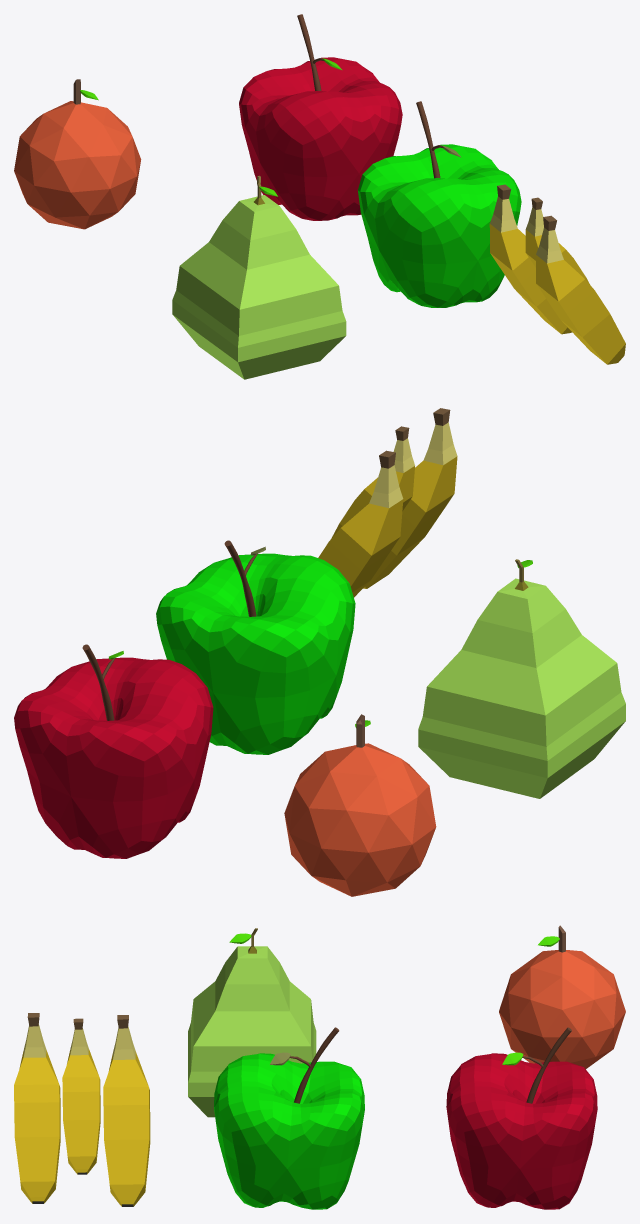
Rendered from LowpolyFruits.fbx.
3 views of the same model, one above another, from view 1: azimuth 30°, elevation 25°; view 2: azimuth 150°, elevation 25°; view 3: azimuth 270°, elevation 25° (orthographic). The views are drawn at different scales.
Visible parts, largest first — view 1: Pear, Apple, Apple.001, Orange, Banana.002, Banana, Banana.001; view 2: Apple, Pear, Apple.001, Orange, Banana, Banana.002, Banana.001; view 3: Apple, Apple.001, Pear, Orange, Banana, Banana.002, Banana.001, Stem.003, Stem.001.
Boxes of the visible parts, x1,y1,x2,y2 form: Pear: (172, 175, 346, 379); Apple: (239, 57, 402, 220); Apple.001: (358, 144, 521, 307); Orange: (14, 79, 141, 229); Banana.002: (536, 215, 625, 364); Banana: (489, 184, 572, 334); Banana.001: (525, 197, 589, 284); Apple: (14, 657, 213, 858); Pear: (418, 559, 625, 798); Apple.001: (156, 553, 355, 754); Orange: (284, 714, 436, 896); Banana: (318, 450, 403, 597); Banana.002: (363, 408, 457, 588); Banana.001: (331, 426, 414, 538); Apple: (446, 1053, 597, 1209); Apple.001: (214, 1053, 364, 1209); Pear: (188, 928, 316, 1117); Orange: (499, 925, 625, 1068); Banana: (103, 1015, 150, 1206); Banana.002: (14, 1013, 60, 1203); Banana.001: (62, 1018, 100, 1174); Stem.003: (294, 1027, 339, 1103); Stem.001: (526, 1027, 571, 1103).
Size of the model in its own units: 983 by 493 by 1549.
